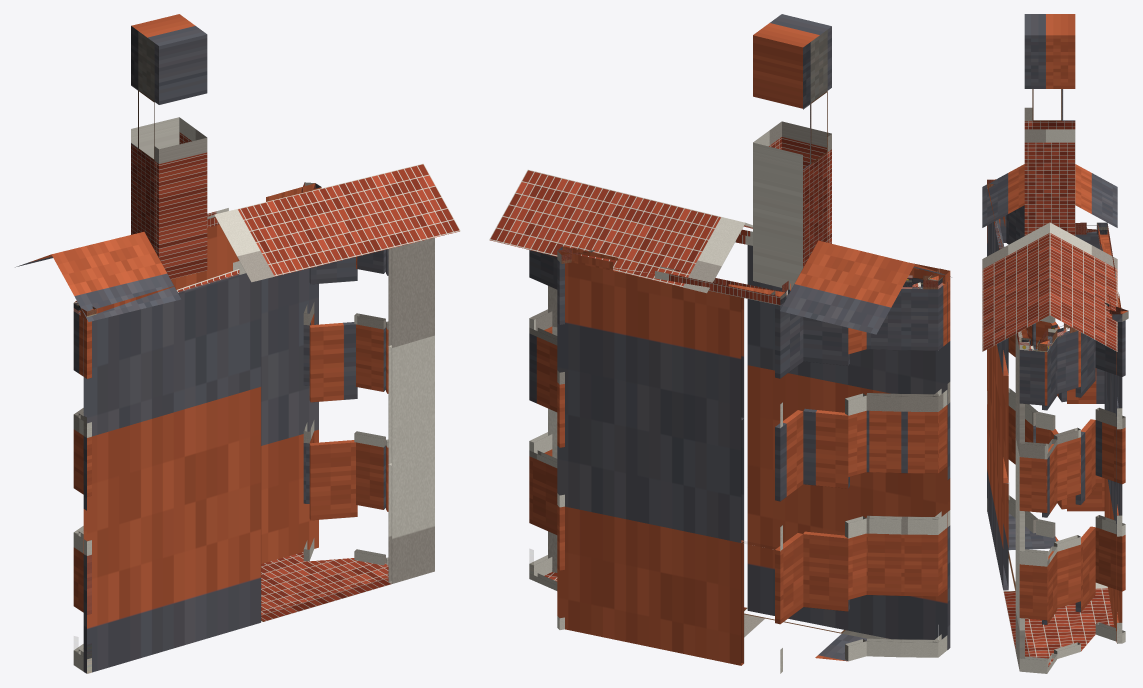
The picture shows the model from 3 angles, left to right: view 1: azimuth 30°, elevation 25°; view 2: azimuth 150°, elevation 25°; view 3: azimuth 270°, elevation 25°; orthographic projection. The views are drawn at different scales.
Parts seen in each view (by area): view 1: 680090684__wall_0_xb, 680090684_roof_-1_xb, 680090684__chimney_0_xb, 680090684__wall_6_xb, 680090684__wall_4_xb, 680090684__base, 680090684__wall_3_xb, 680090684__wall_12_xb, 680090684__wall_5_xb, 680090684__cornice_0; view 2: 680090684__wall_6_xb, 680090684__wall_0_xb, 680090684_roof_1_xb, 680090684__chimney_0_xb, 680090684__wall_11_xb, 680090684__wall_8_xb, 680090684__wall_10_xb, 680090684__wall_7_xb, 680090684__wall_2_xb, 680090684__wall_9_xb, 680090684__wall_12_xb, 680090684__cornice_6 (+3 smaller); view 3: 680090684__chimney_0_xb, 680090684_roof_-1_xb, 680090684_roof_1_xb, 680090684__wall_0_xb, 680090684__wall_1_xb, 680090684__wall_5_xb, 680090684__wall_3_xb, 680090684__base, 680090684__wall_4_xb, 680090684__wall_6_xb, 680090684__wall_2_xb, 680090684__wall_7_xb (+9 smaller).
Boxes of the visible parts, <box> form: 680090684__wall_0_xb: <box>83,237,434,673</box>; 680090684_roof_-1_xb: <box>51,163,460,321</box>; 680090684__chimney_0_xb: <box>131,14,207,279</box>; 680090684__wall_6_xb: <box>171,224,318,563</box>; 680090684__wall_4_xb: <box>309,257,357,520</box>; 680090684__base: <box>261,552,391,621</box>; 680090684__wall_3_xb: <box>354,249,385,565</box>; 680090684__wall_12_xb: <box>73,311,91,673</box>; 680090684__wall_5_xb: <box>303,302,314,561</box>; 680090684__cornice_0: <box>80,261,245,319</box>; 680090684__wall_6_xb: <box>557,262,782,673</box>; 680090684__wall_0_xb: <box>548,245,950,649</box>; 680090684_roof_1_xb: <box>489,169,914,334</box>; 680090684__chimney_0_xb: <box>753,14,831,289</box>; 680090684__wall_11_xb: <box>901,286,938,657</box>; 680090684__wall_8_xb: <box>803,317,849,611</box>; 680090684__wall_10_xb: <box>866,290,901,657</box>; 680090684__wall_7_xb: <box>775,294,803,624</box>; 680090684__wall_2_xb: <box>529,250,557,590</box>; 680090684__wall_9_xb: <box>845,328,866,661</box>; 680090684__wall_12_xb: <box>932,280,950,657</box>; 680090684__cornice_6: <box>557,246,785,305</box>; 680090684__chimney_0_xb: <box>1024,14,1075,235</box>; 680090684_roof_-1_xb: <box>982,164,1049,351</box>; 680090684_roof_1_xb: <box>1050,164,1117,351</box>; 680090684__wall_0_xb: <box>987,219,1024,670</box>; 680090684__wall_1_xb: <box>1019,348,1048,673</box>; 680090684__wall_5_xb: <box>1095,320,1125,643</box>; 680090684__wall_3_xb: <box>1054,330,1080,658</box>; 680090684__base: <box>1003,513,1118,666</box>; 680090684__wall_4_xb: <box>1075,332,1095,612</box>; 680090684__wall_6_xb: <box>1104,246,1122,643</box>; 680090684__wall_2_xb: <box>1042,337,1057,673</box>; 680090684__wall_7_xb: <box>1067,231,1104,511</box>.
Size of the model in its own units: 1.16 by 1.75 by 0.4332.
Materials: 1 (1 with a texture image).
